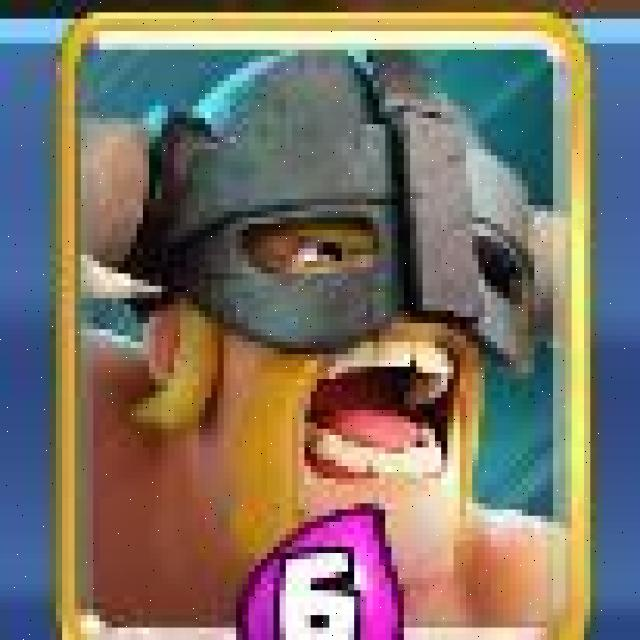Elite_Barbarians: (53, 12, 597, 640)
